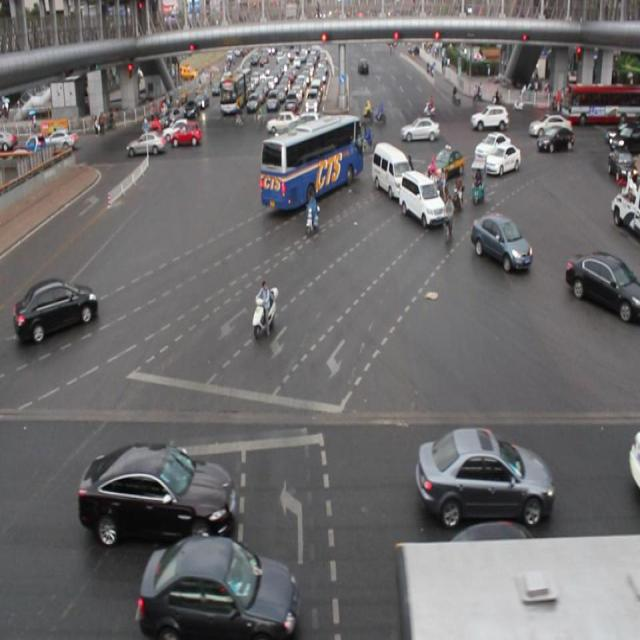car: (136, 530, 303, 640), (80, 438, 237, 548), (416, 419, 553, 528), (405, 517, 530, 622), (11, 276, 100, 343), (566, 251, 640, 323), (471, 211, 532, 270), (620, 410, 640, 517), (399, 110, 438, 144), (428, 144, 462, 181), (484, 144, 520, 175), (528, 112, 572, 135), (537, 129, 573, 157), (487, 144, 518, 176), (170, 122, 204, 145), (127, 133, 163, 153), (266, 112, 297, 135)
truck: (370, 139, 409, 196), (400, 174, 442, 224)
van: (388, 528, 640, 640), (260, 111, 362, 208)
